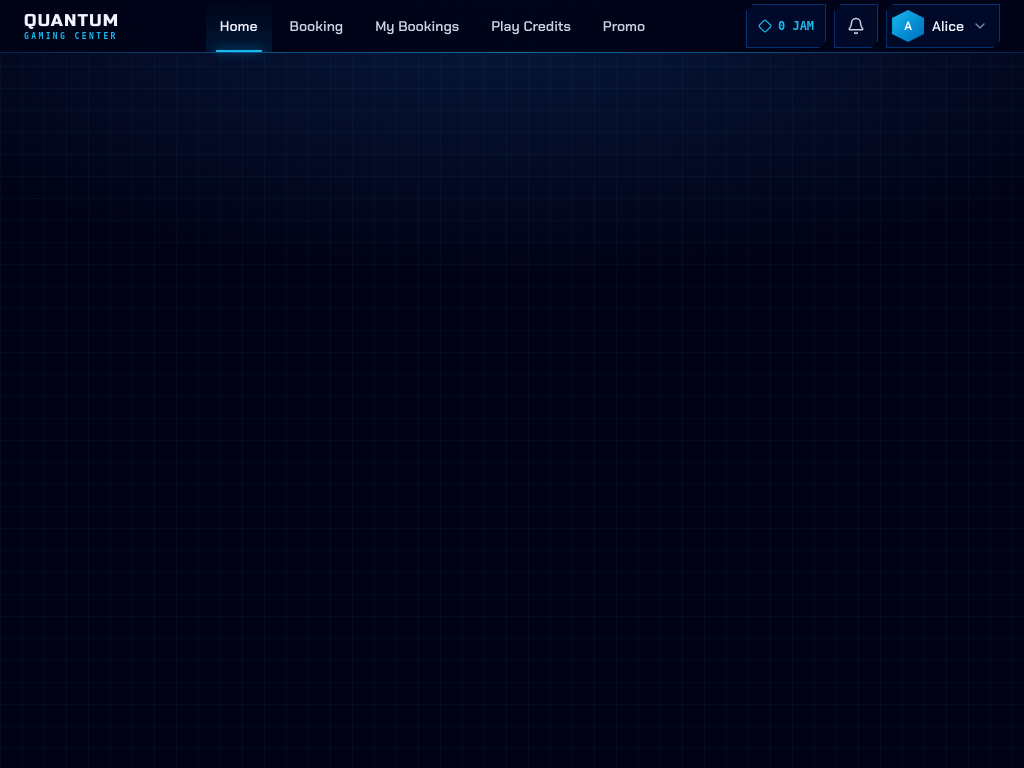
CustomerNavbar › the profile menu has Profil Saya, Pesanan F&B and Keluar
The image size is (1024, 768).
Click the button with aria-label "Menu profil". click: [943, 26]
box: [886,4,1000,48]
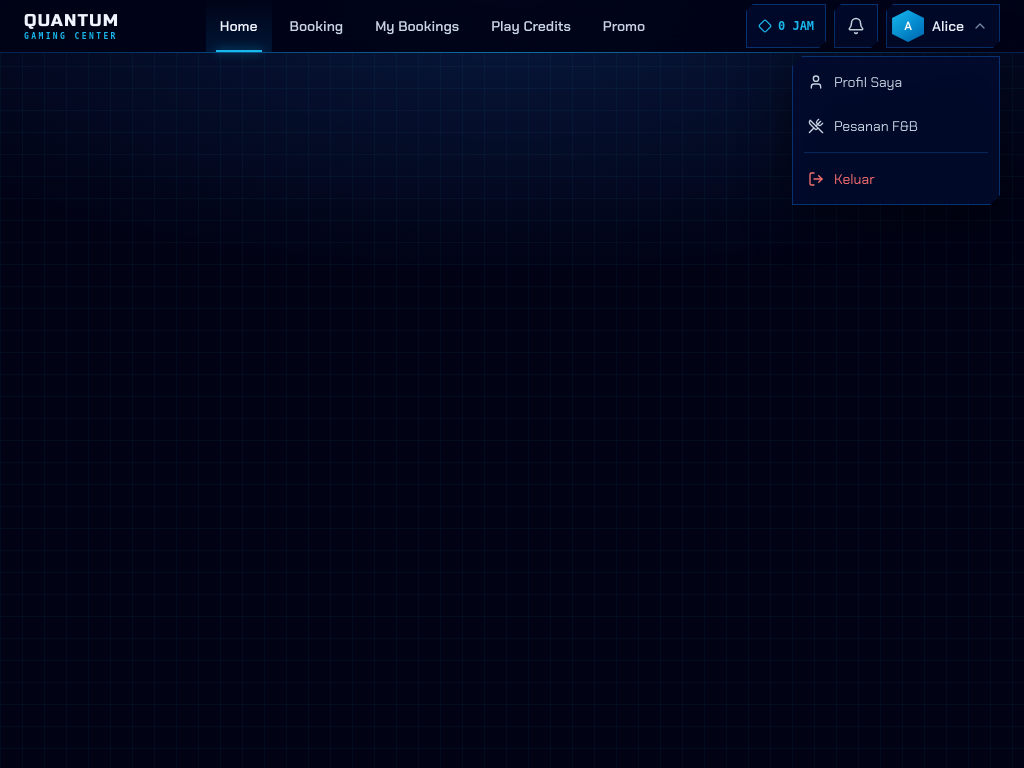
Check: the text "Profil Saya" is shown, box [808,73,902,91]
Check: the text "Pesanan F&B" is shown, box [808,117,918,135]
Check: the text "Keluar" is shown, box [792,157,1000,201]
